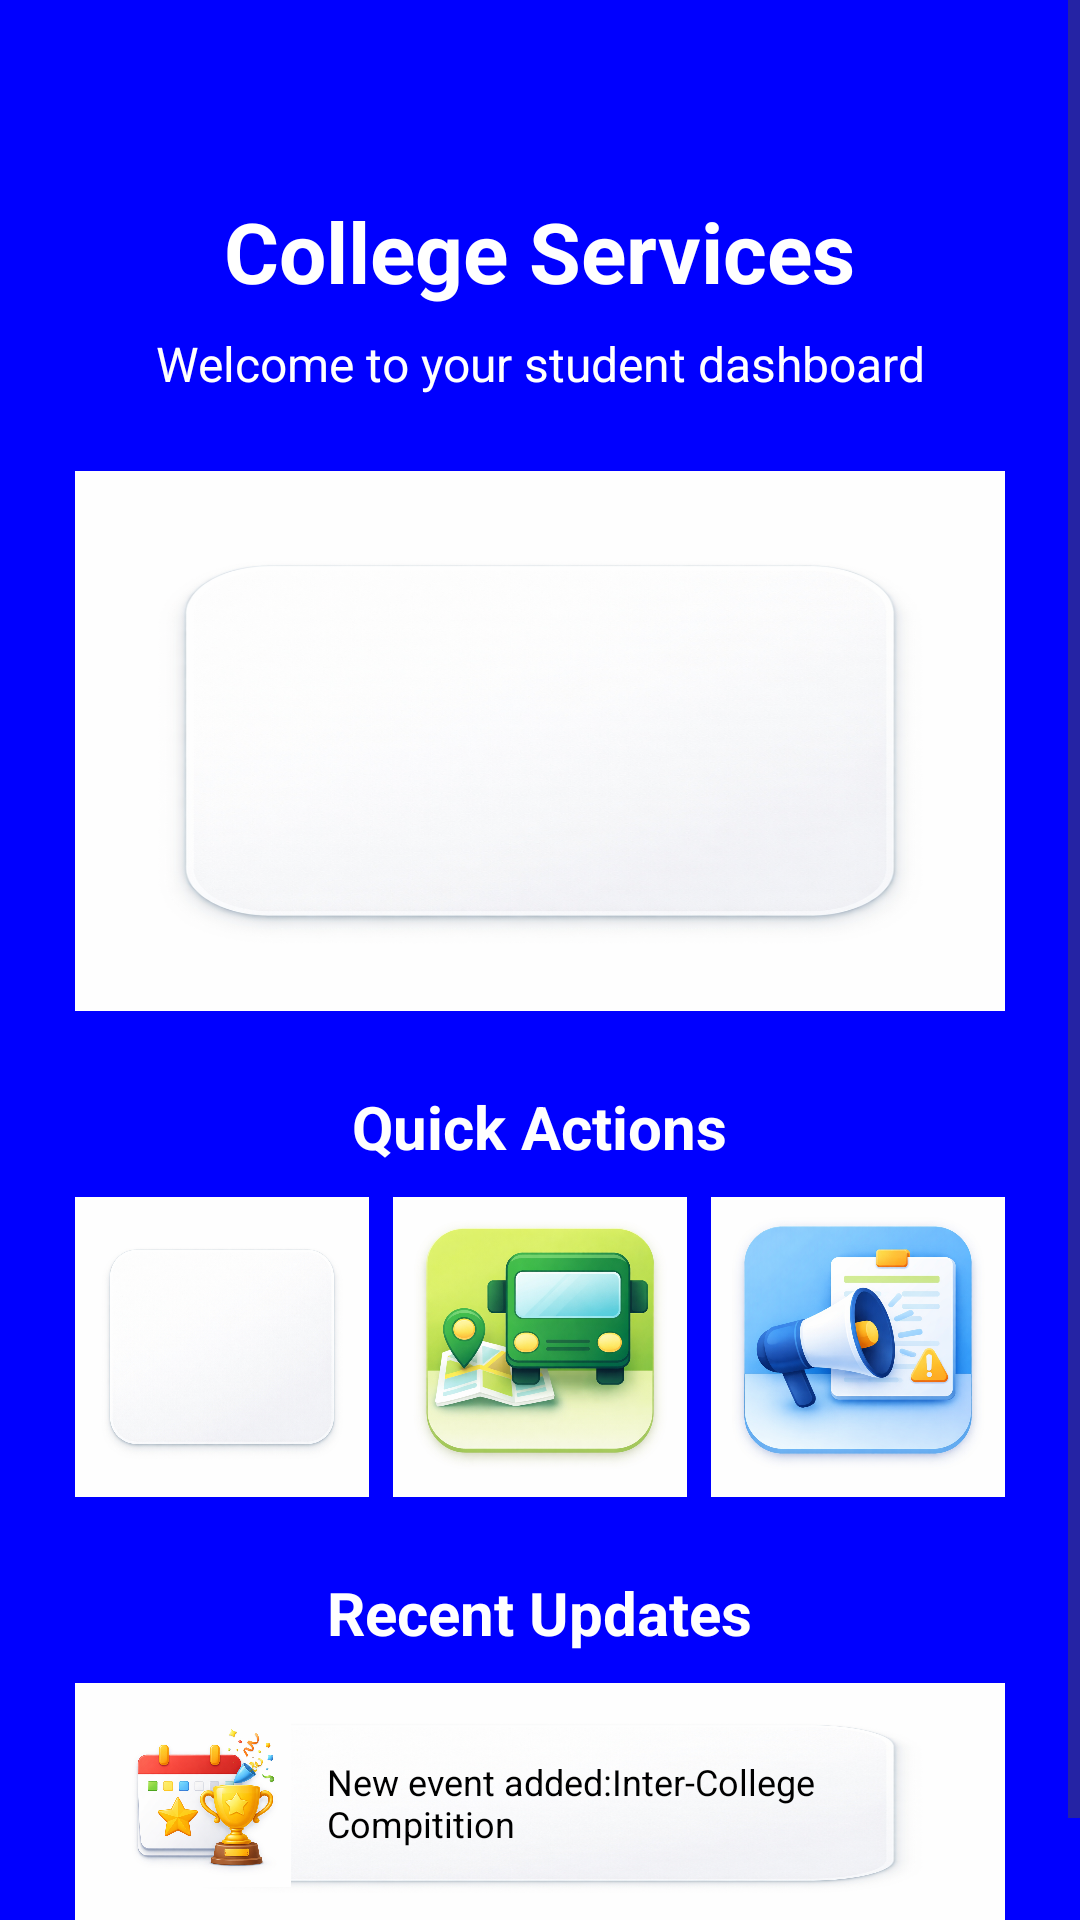

Point at icon controls on the screen. Image size 1080px×1920px, points as [x,y].
busss: [540,1343]
events: [205,1798]
noticee: [858,1343]
